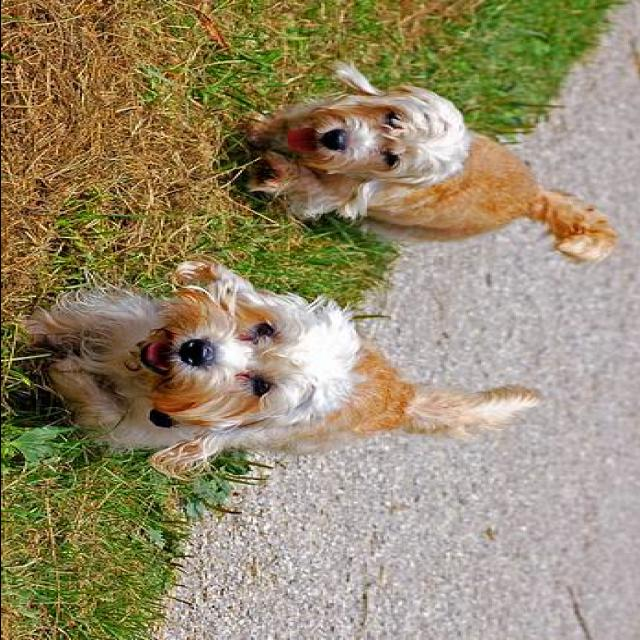dandie_dinmont: (15, 258, 542, 478), (243, 59, 625, 267)
